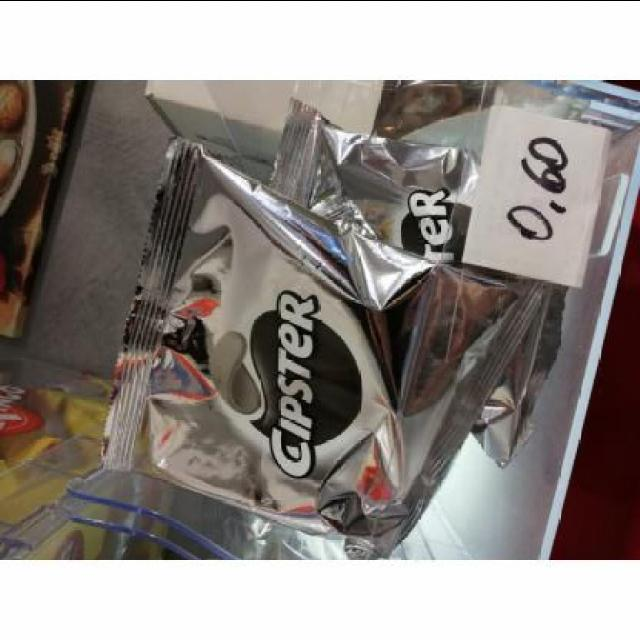Chips: (97, 155, 523, 551)
